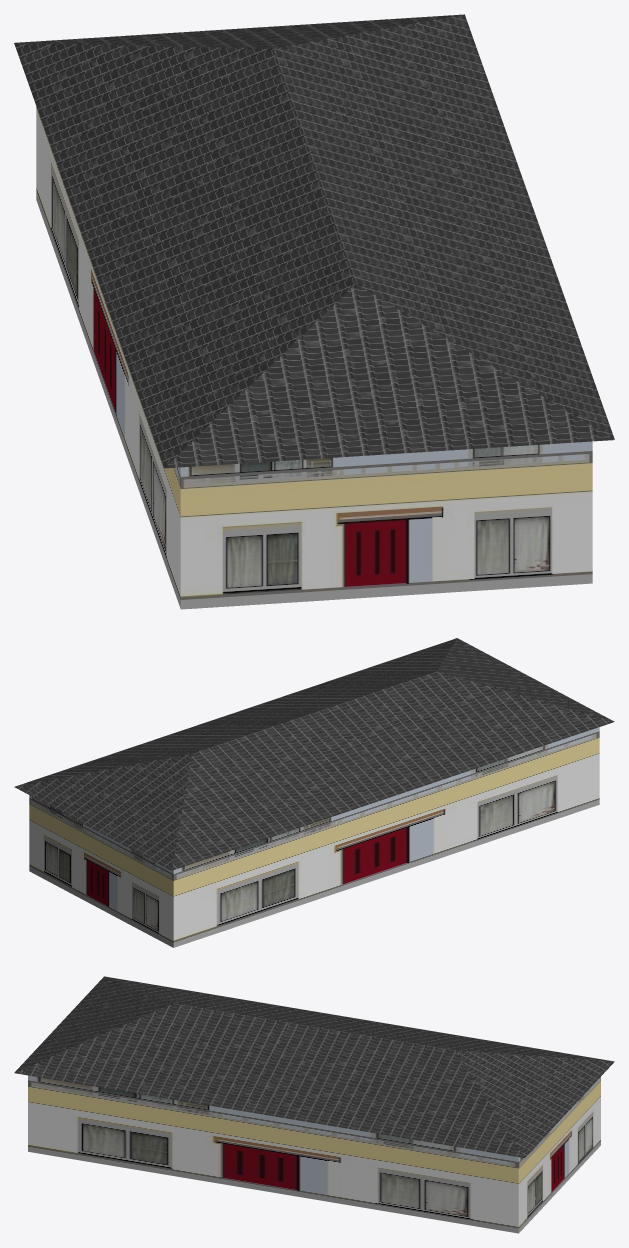
3 renders of one model, top to bottom at view 1: azimuth 30°, elevation 25°; view 2: azimuth 150°, elevation 25°; view 3: azimuth 270°, elevation 25°, orthographic. The views are drawn at different scales.
Parts seen in each view (by area): view 1: CityEngineMaterial_16_m, CityEngineMaterial_15_m; view 2: CityEngineMaterial_16_m, CityEngineMaterial_15_m; view 3: CityEngineMaterial_16_m, CityEngineMaterial_15_m.
Boxes of the visible parts, left/top/right/bottom form: CityEngineMaterial_16_m: left=14, top=14, right=614, bottom=468; CityEngineMaterial_15_m: left=36, top=107, right=592, bottom=609; CityEngineMaterial_16_m: left=14, top=638, right=614, bottom=870; CityEngineMaterial_15_m: left=29, top=727, right=599, bottom=947; CityEngineMaterial_16_m: left=14, top=976, right=614, bottom=1157; CityEngineMaterial_15_m: left=28, top=1075, right=600, bottom=1233.
Size of the model in its own units: 37.88 by 11.83 by 52.93.
